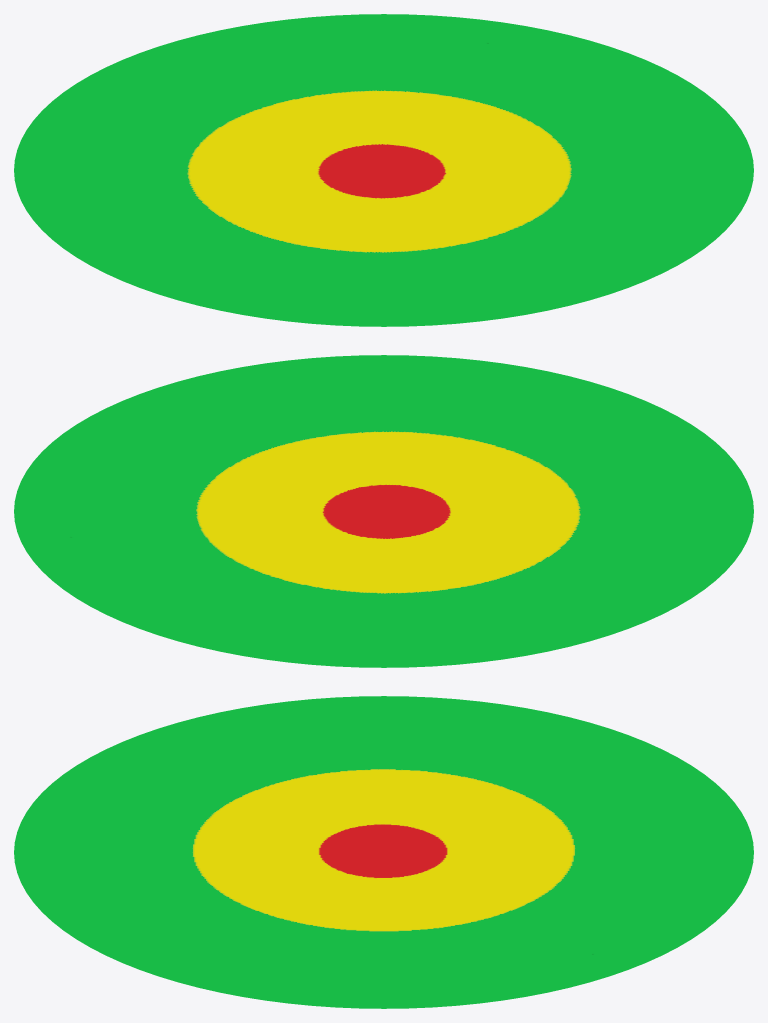
The model's file is goal.fbx.
The picture shows the model from 3 angles, top to bottom: view 1: azimuth 30°, elevation 25°; view 2: azimuth 150°, elevation 25°; view 3: azimuth 270°, elevation 25°; orthographic projection.
Visible parts, largest first — view 1: pDisc1; view 2: pDisc1; view 3: pDisc1.
Boxes of the visible parts, <box> form: pDisc1: <box>14,14,753,326</box>; pDisc1: <box>14,355,753,667</box>; pDisc1: <box>14,696,753,1008</box>.
Size of the model in its own units: 10 by 0 by 10.
Materials: 1 (1 with a texture image).
